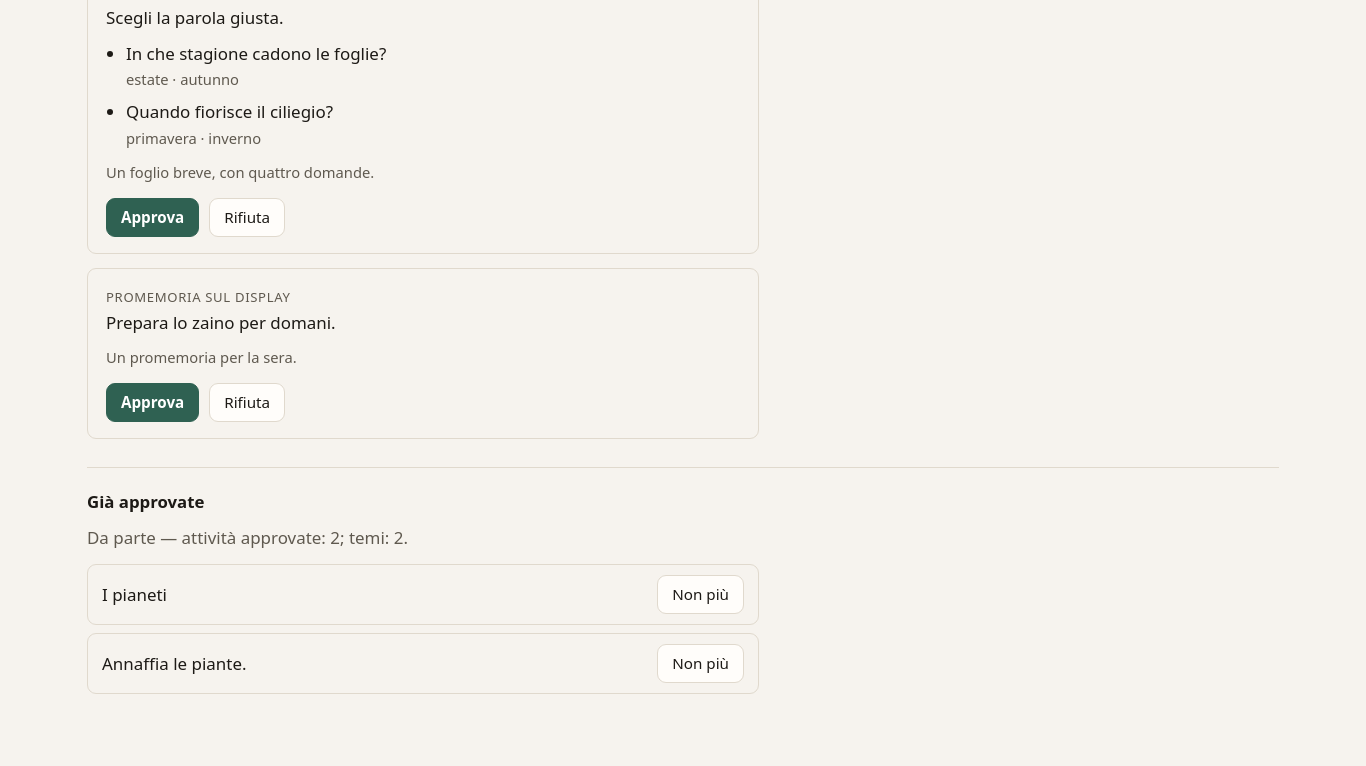
Test: what is already approved › withdraws one, shortens the count, and says what withdrawal cannot reach
(page scrolled)
Expected: the text "Da parte — attività approvate: 2; temi: 2." is shown, [87, 526, 408, 549]
Step 1. Click the button "Non più" in the row of "I pianeti" → click(701, 595), box [657, 575, 744, 614]
(page scrolled)
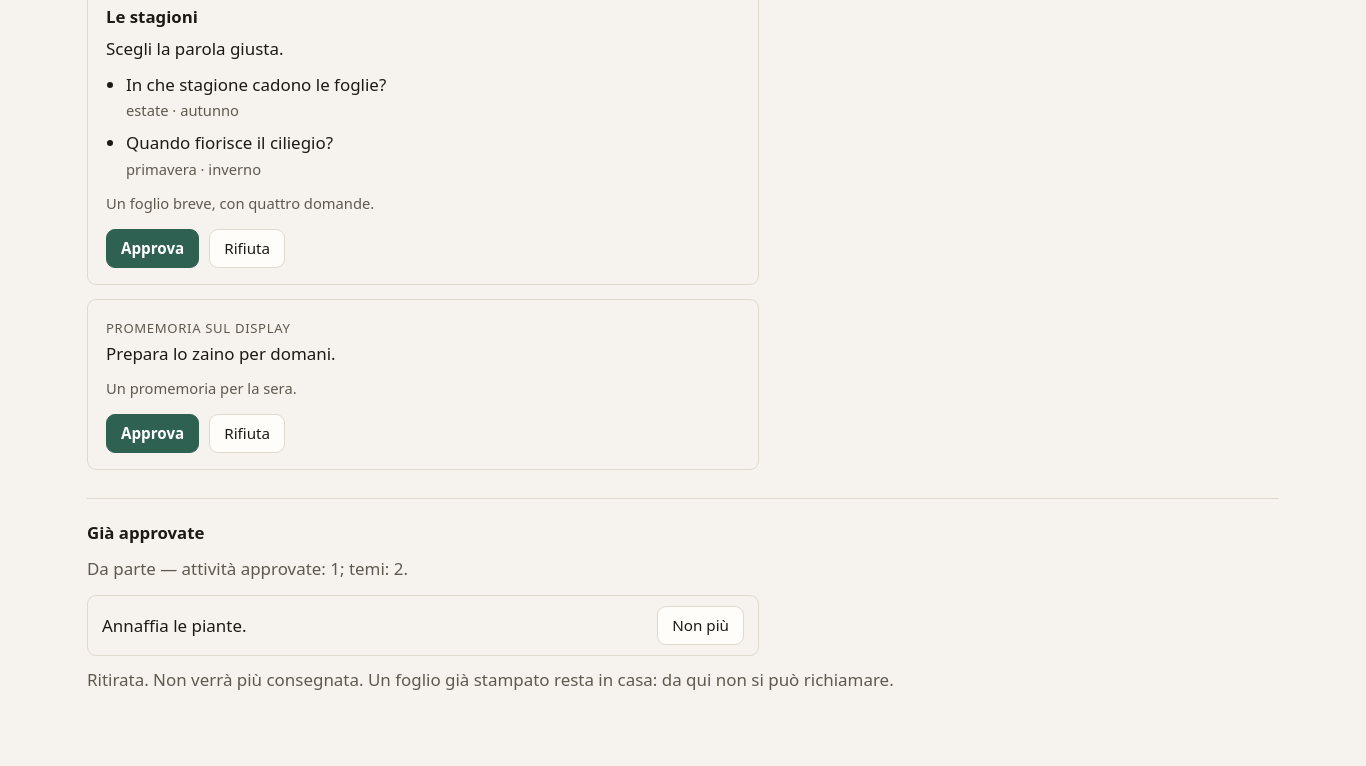
Expected: the text "Da parte — attività approvate: 1; temi: 2." is shown, [87, 557, 408, 580]
Expected: the text "Ritirata. Non verrà più consegnata. Un foglio già stampato resta in casa: da qui non si può richiamare." is shown, [87, 668, 894, 691]
